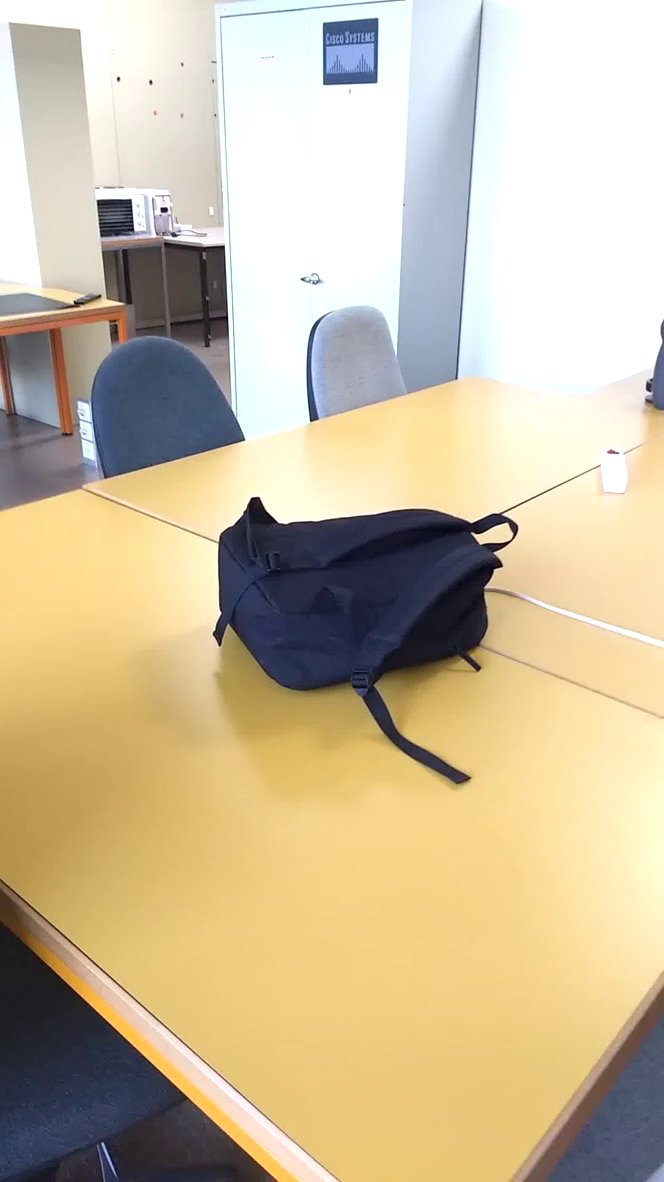bag: (191, 479, 526, 797)
chair: (87, 331, 253, 484), (290, 297, 426, 425)
